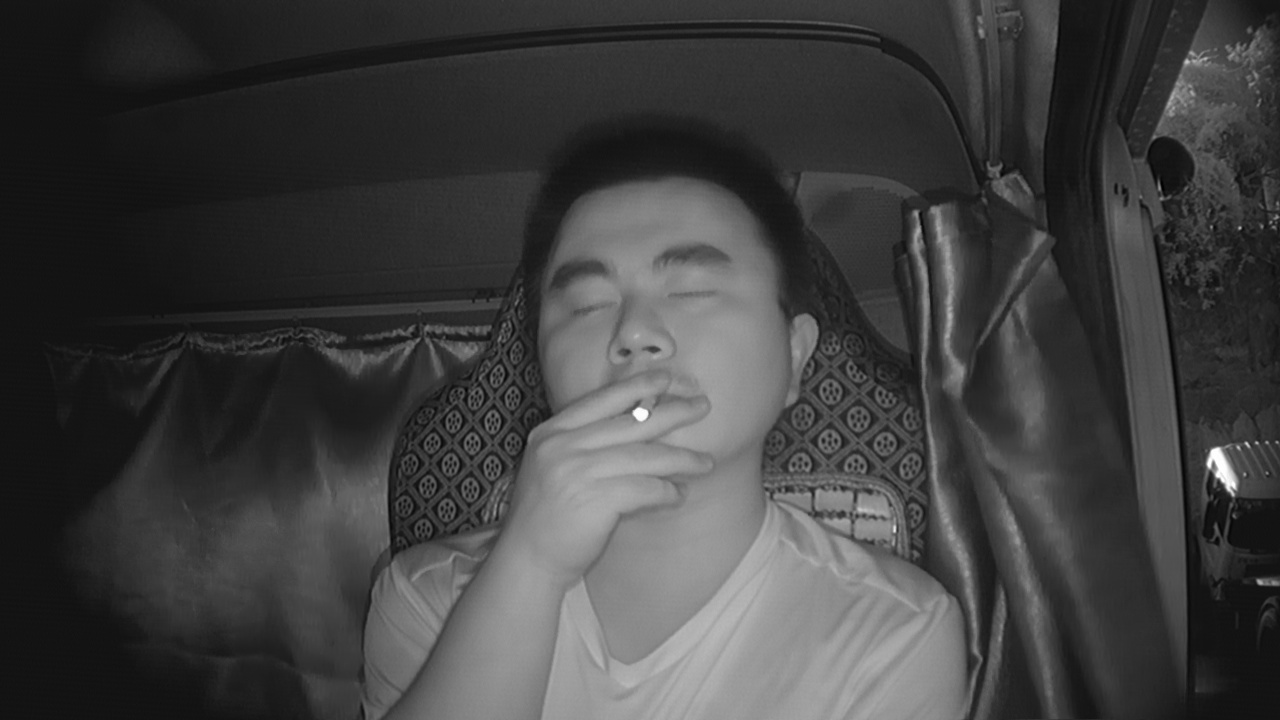hand: (561, 367, 708, 530)
